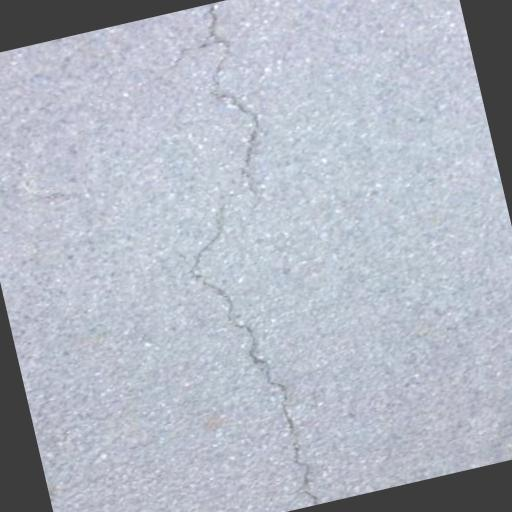spalling: (175, 201, 335, 496), (185, 5, 277, 206)
